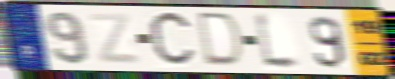9: (43, 9, 91, 66), (308, 14, 347, 70)
C: (146, 9, 199, 71)
D: (197, 10, 246, 70)
L: (252, 10, 307, 73)
Z: (86, 12, 143, 66)
